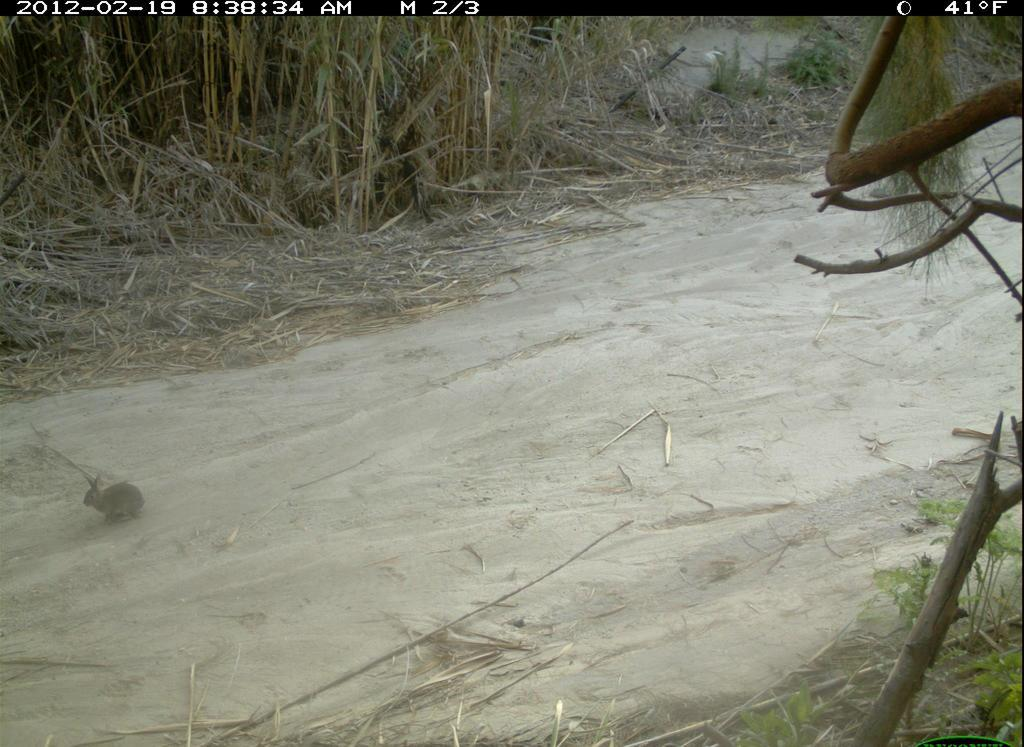rabbit: (81, 462, 152, 532)
